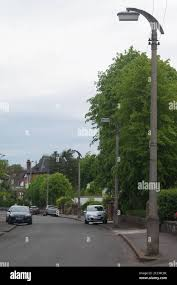light_pole: (140, 26, 164, 261)
